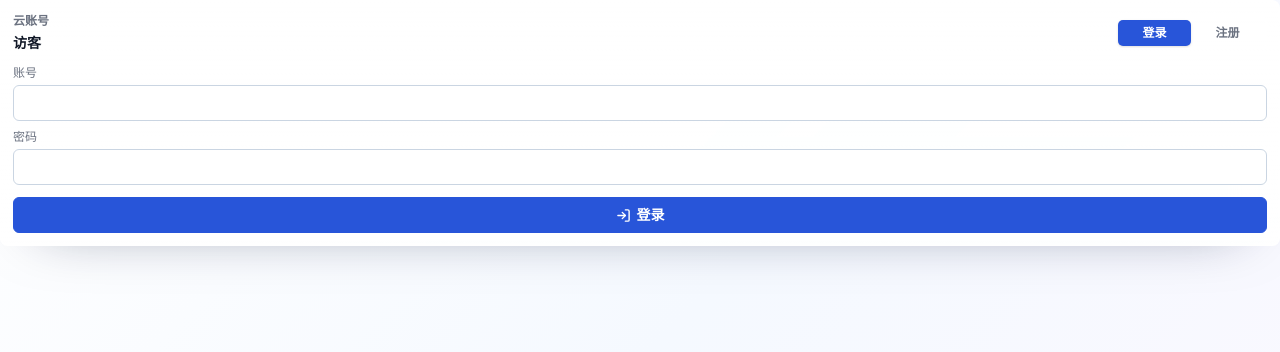
Test: AuthPanel › shows localized Chinese auth failure copy instead of a raw service message
The width and height of the screenshot is (1280, 352).
Type "weihao_02" into the field labelled "账号".
click(640, 103); type("weihao_02")  # box [13,85,1267,121]
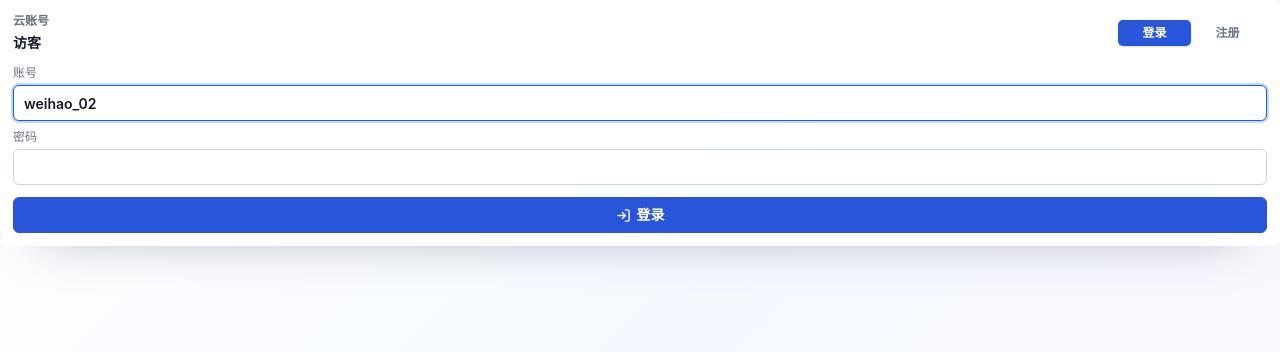
Type "Password123" into the password field labelled "密码".
click(640, 167); type("Password123")  # box [13,149,1267,185]
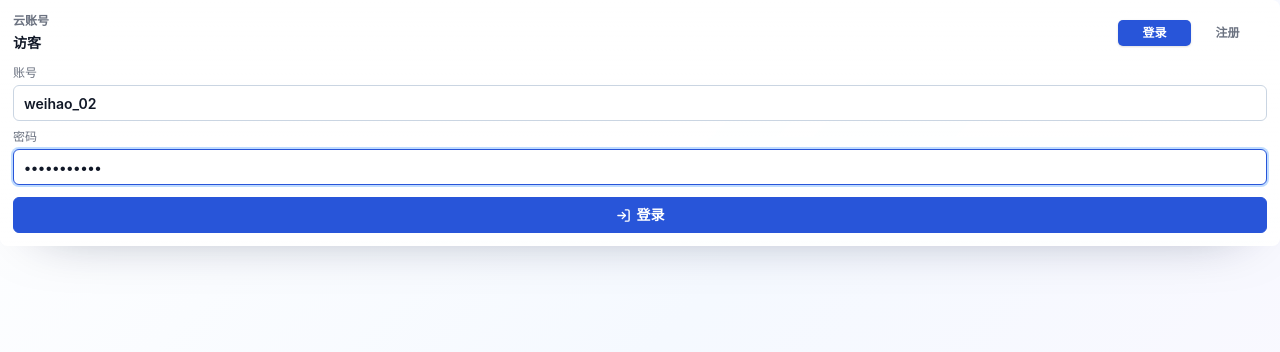
Click the button "登录" below "密码".
click(640, 215)  # box [13,197,1267,233]
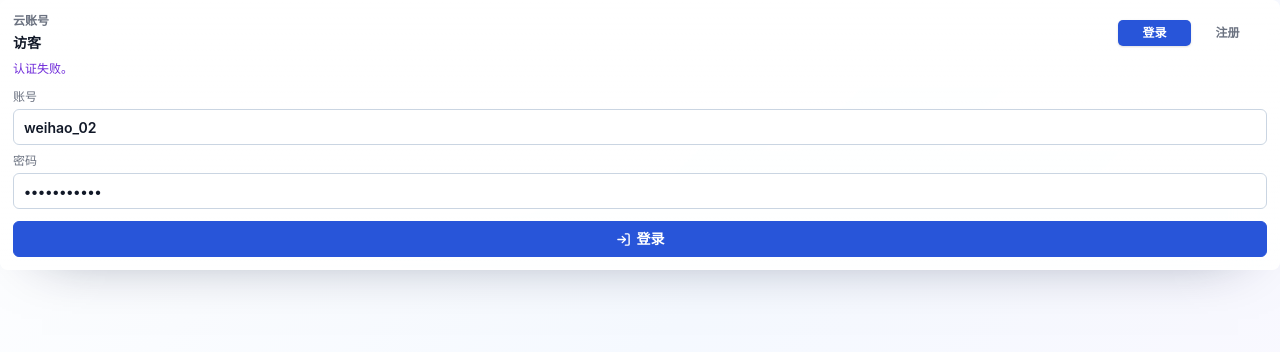
Check: the text "认证失败。" is shown, box [13,61,73,76]
